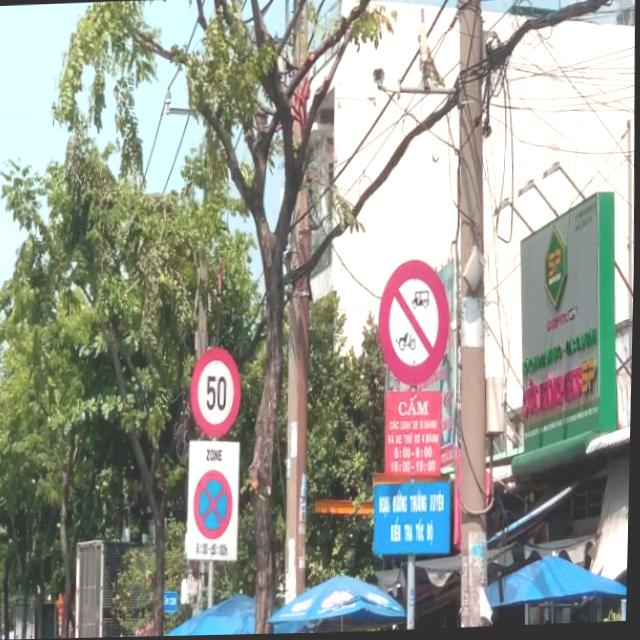Cam dung xe va do xe: (194, 469, 237, 541)
Toc do toi da cho phep: (191, 346, 244, 439)
